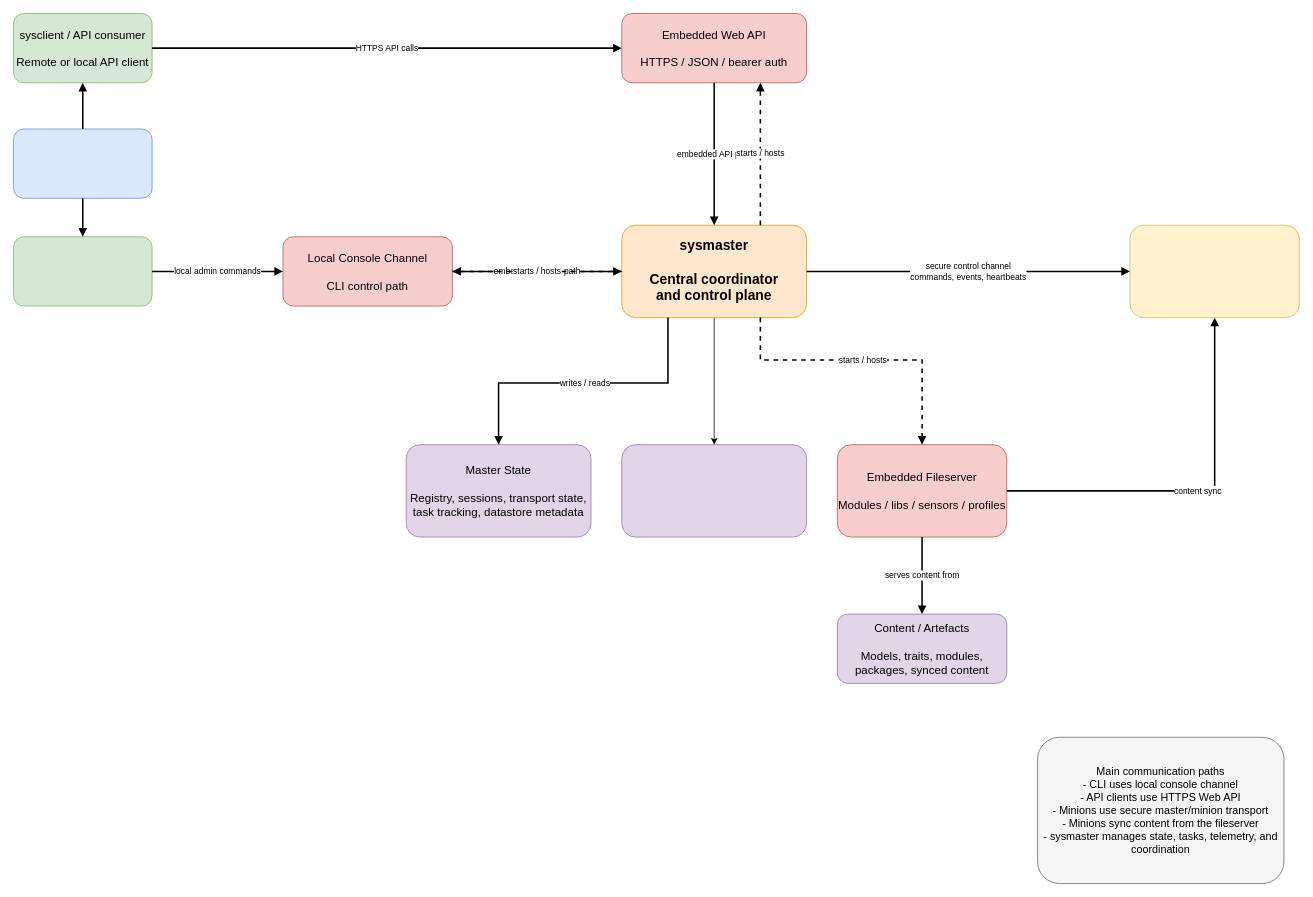
The diagram is 1313 pixels wide and 897 high, and some of its shapes have lost their labels. Here are the shapes that lost their labels. From the top down, the box of each, then its label:
(13, 128, 152, 198): Operator / Admin Uses CLI or API
(13, 236, 152, 306): sysinspect CLI Local admin tool
(1129, 224, 1299, 318): sysminion Fleet Managed nodes
(621, 444, 807, 537): Telemetry / Event Store Events, history, observability
